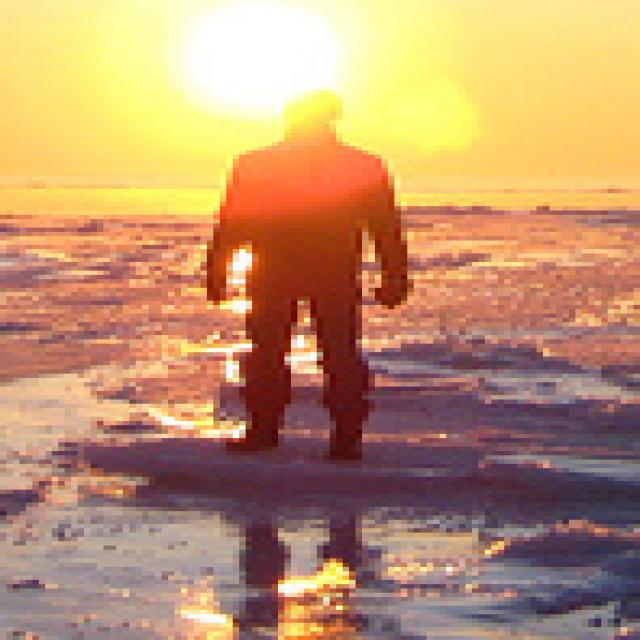standing: (187, 88, 437, 461)
